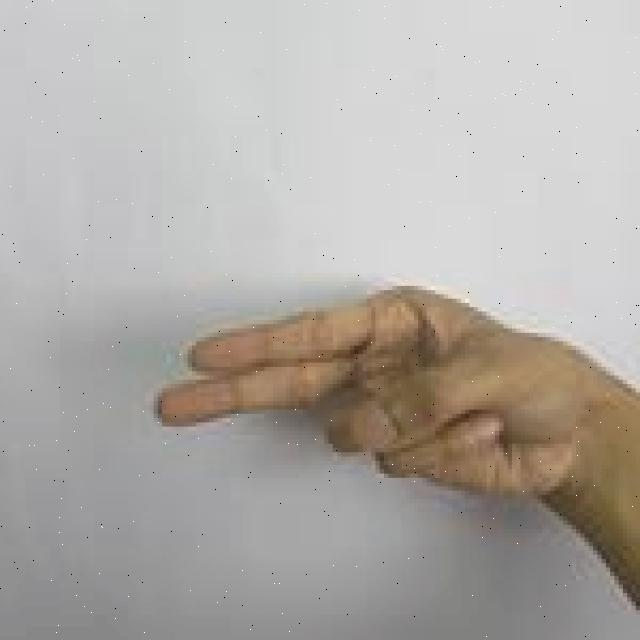H: (146, 282, 640, 610)
